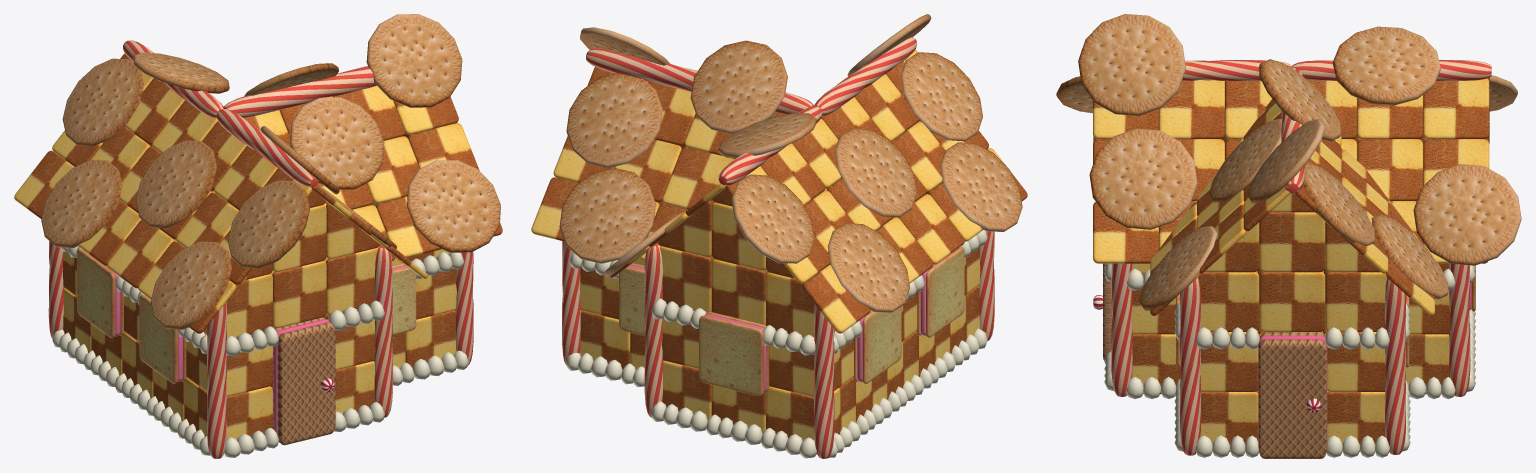
The model's file is cw_house_3.fbx.
The picture shows the model from 3 angles, left to right: view 1: azimuth 30°, elevation 25°; view 2: azimuth 150°, elevation 25°; view 3: azimuth 270°, elevation 25°; orthographic projection. The views are drawn at different scales.
Parts seen in each view (by area): view 1: cw_house_3; view 2: cw_house_3; view 3: cw_house_3.
Boxes of the visible parts, left/top/right/bottom form: cw_house_3: left=14, top=14, right=502, bottom=458; cw_house_3: left=531, top=14, right=1027, bottom=458; cw_house_3: left=1056, top=14, right=1521, bottom=458.
Size of the model in its own units: 727 by 594 by 761.
